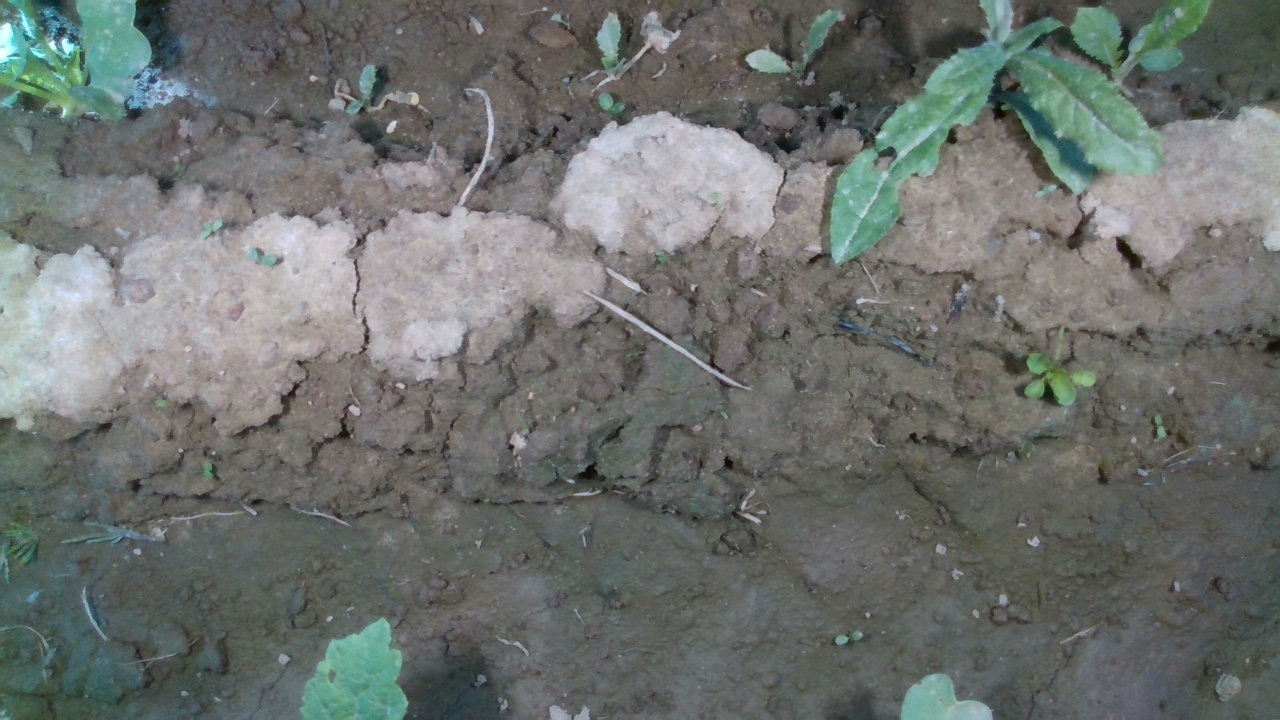weed: (598, 91, 626, 114)
